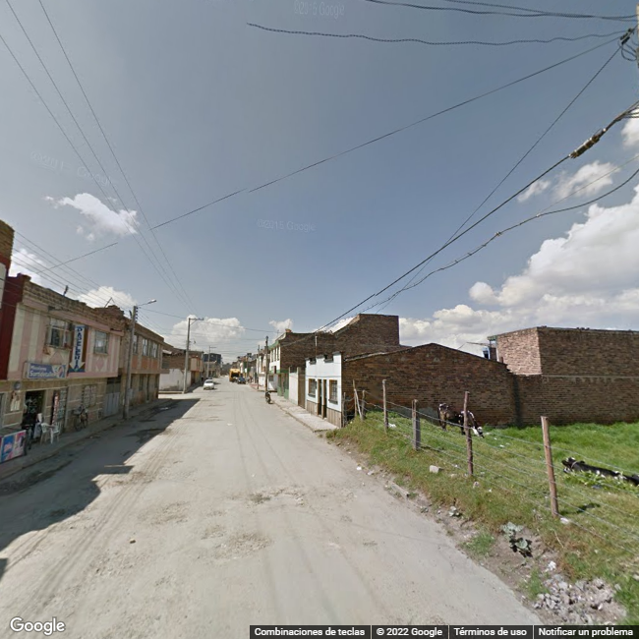D00: (436, 539, 493, 585)
D40: (216, 528, 267, 567), (88, 550, 135, 579)
